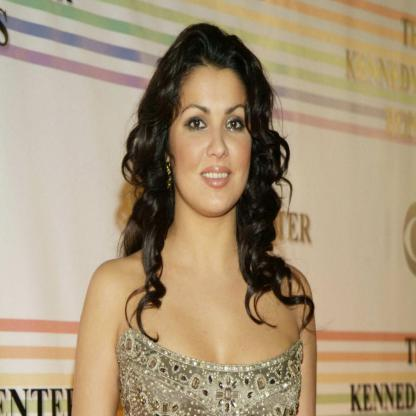long-hair: (113, 215, 292, 275)
